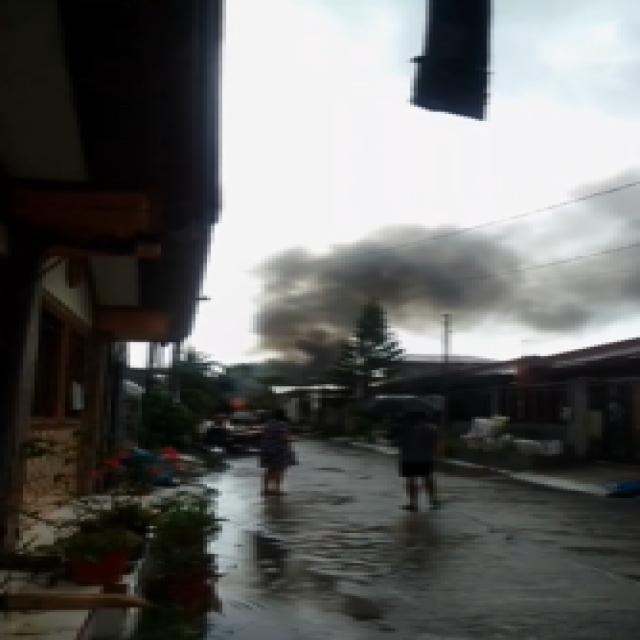Fire: (226, 394, 246, 410)
Smoke: (235, 226, 510, 398)
